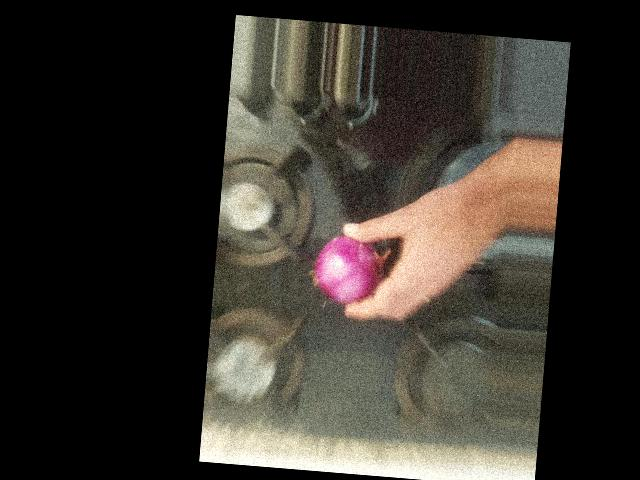onion: (316, 214, 401, 306)
